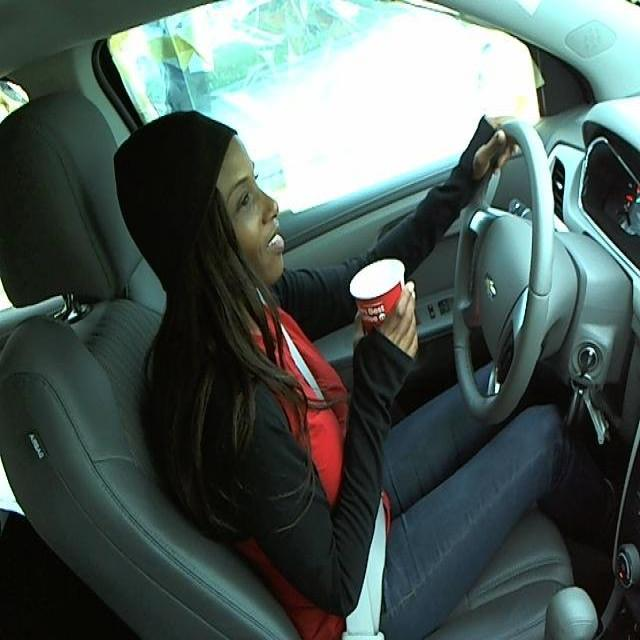drinking: (350, 255, 409, 368)
